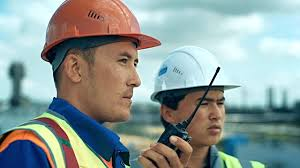Person_wearing_helmet: (44, 0, 157, 74), (150, 39, 243, 111)
